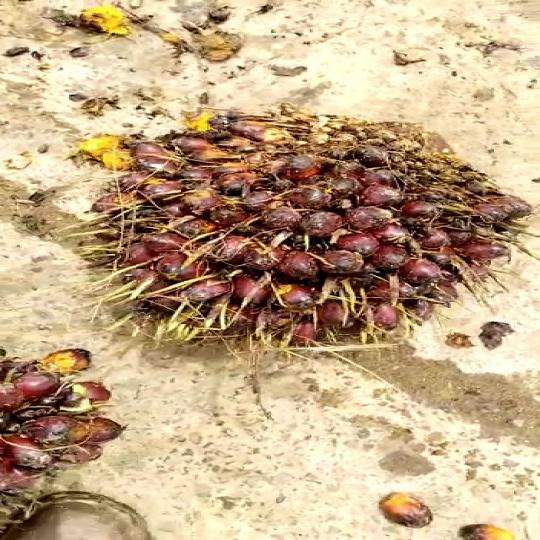kurang masak: (44, 85, 540, 373)
